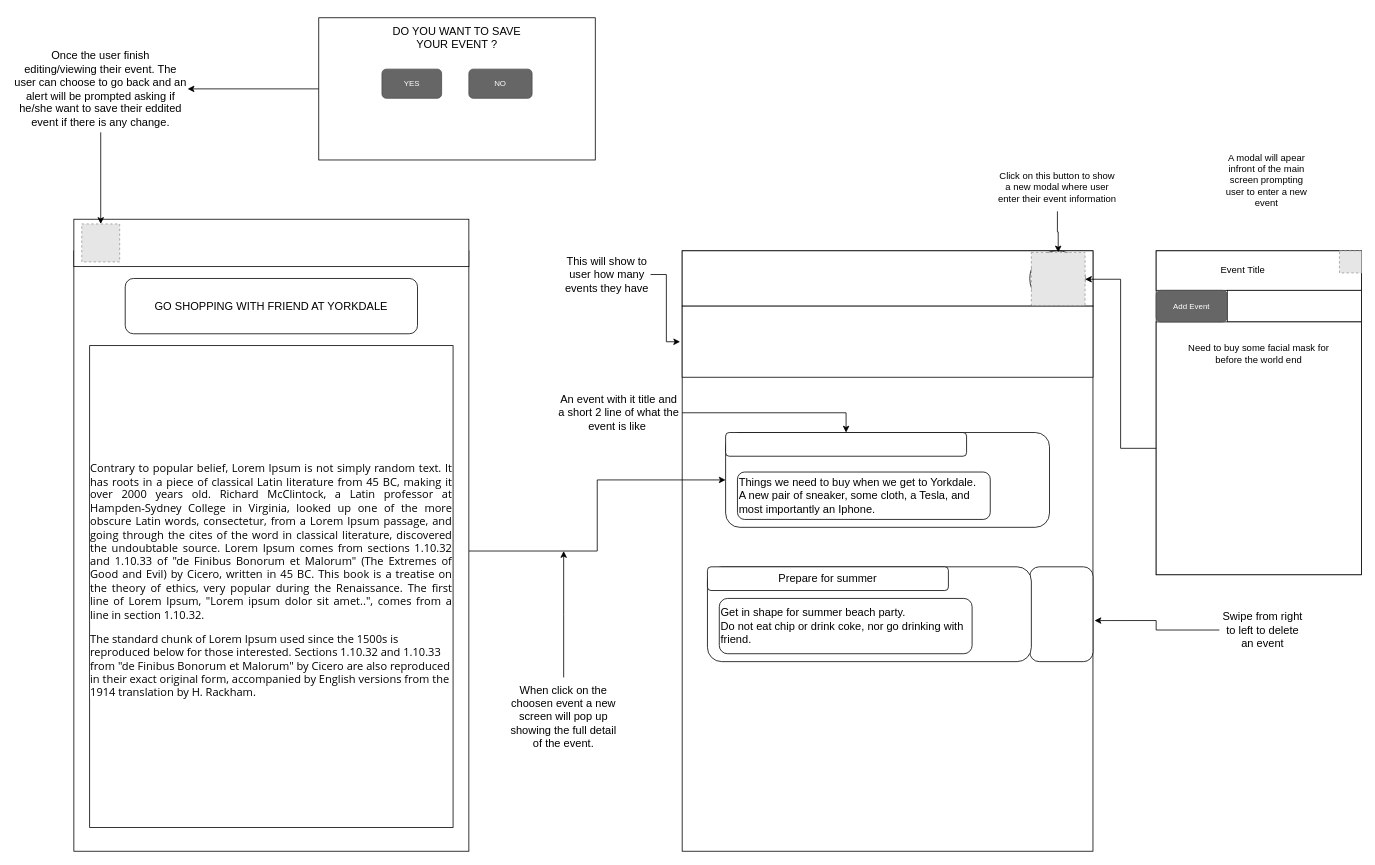
Image size: 1375x865. Some labels were removed from this diagram. Grey dashed boxes stand in for pictures. The centre of each missing label's shape, as x and y in pixels:
"2 EVENTS" goes at point 887,341.
"Date" goes at point 1294,306.
"DELETE" goes at point 1061,614.
"Go Shoping with friend at Yorkdale" goes at point 846,444.
